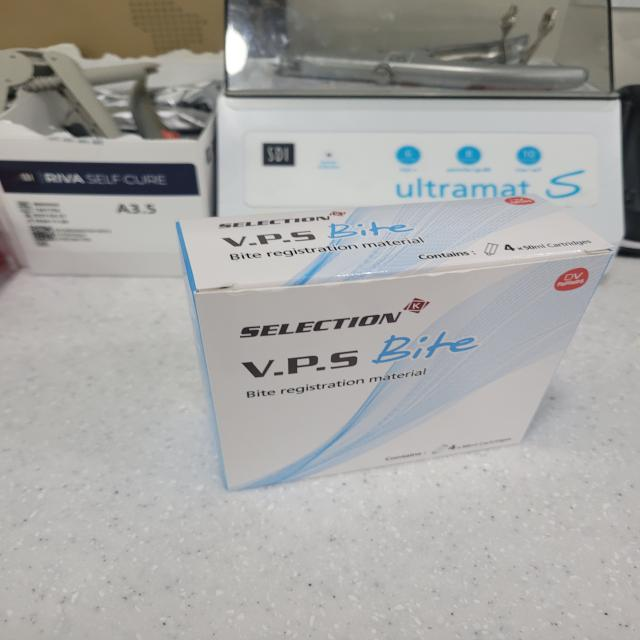impression: (109, 189, 633, 506)
